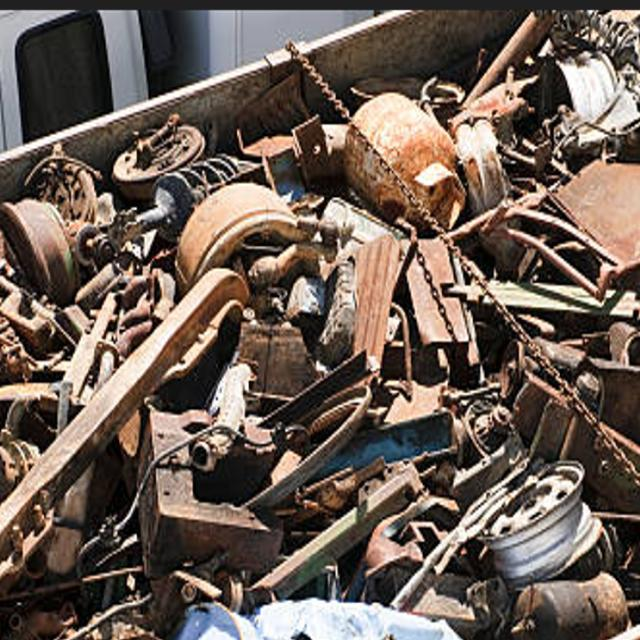cylinder: (344, 91, 466, 234)
